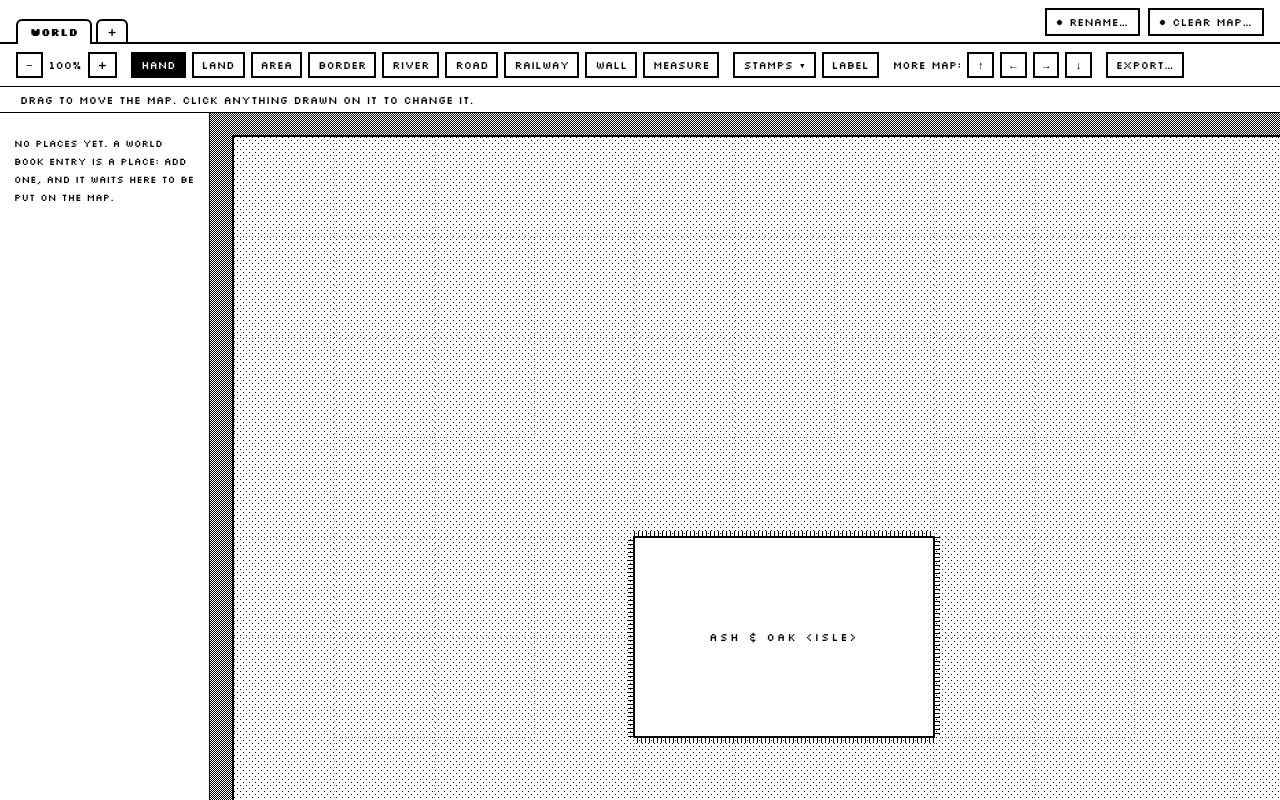
Test: Export Map Image › says what went wrong when the picture cannot be written
Click the button "Export…".
click(1145, 65)  # box [1106,52,1184,78]
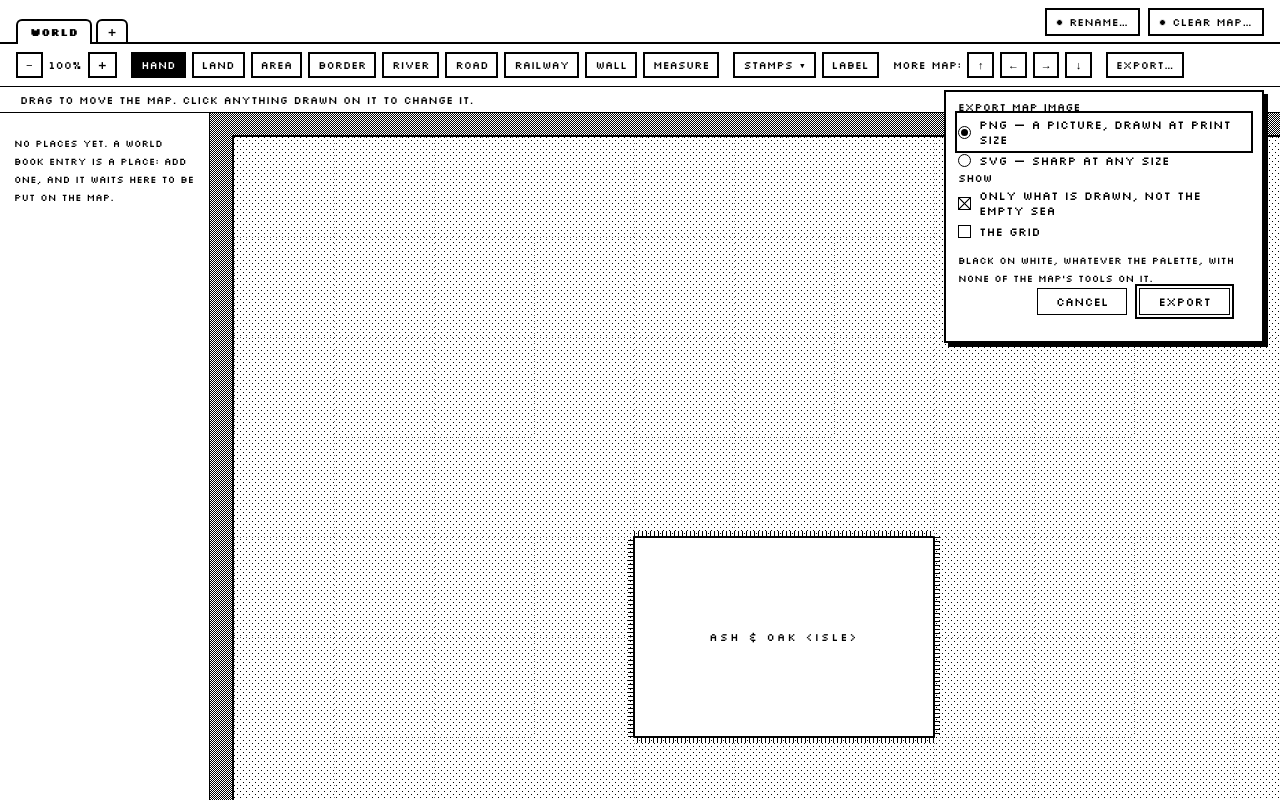
Click the button with class "default".
click(1185, 302)  # box [1140,288,1230,315]
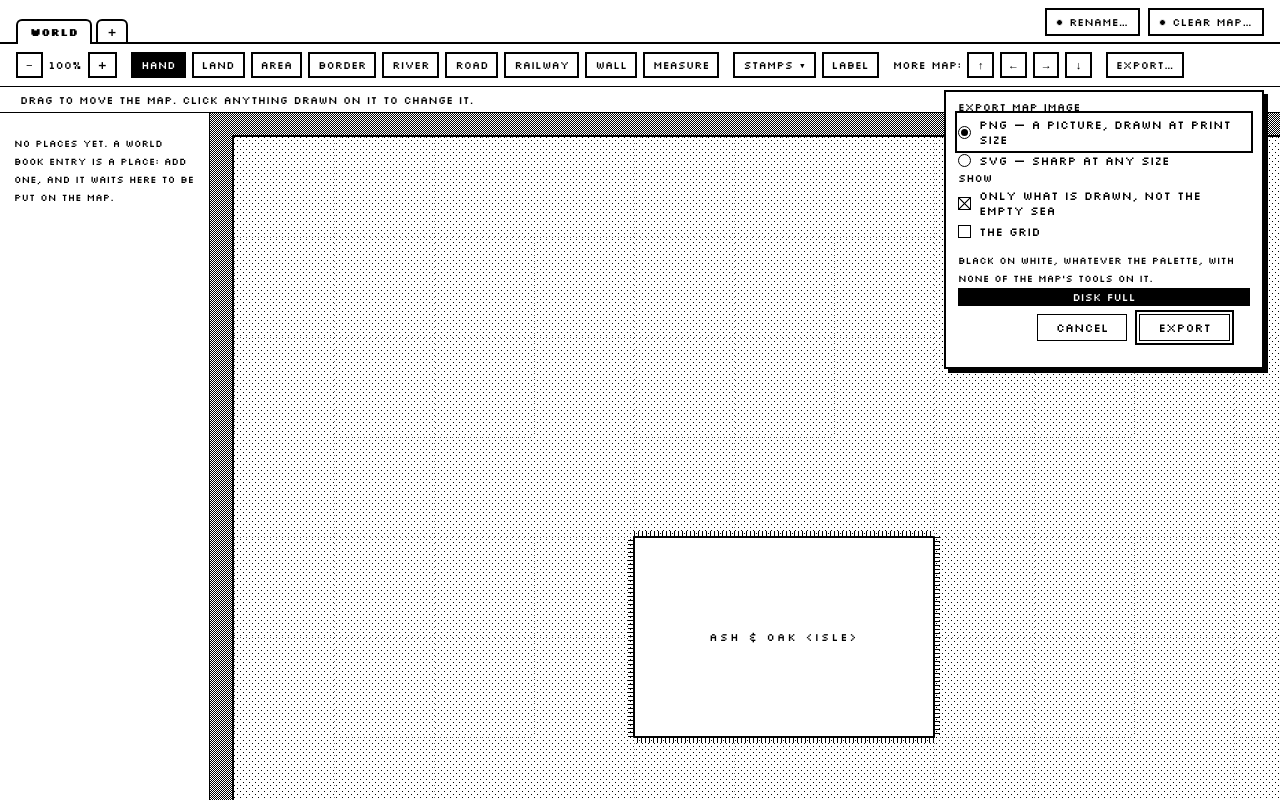
Now the message reads "Disk full", box [1072,290,1136,304]
